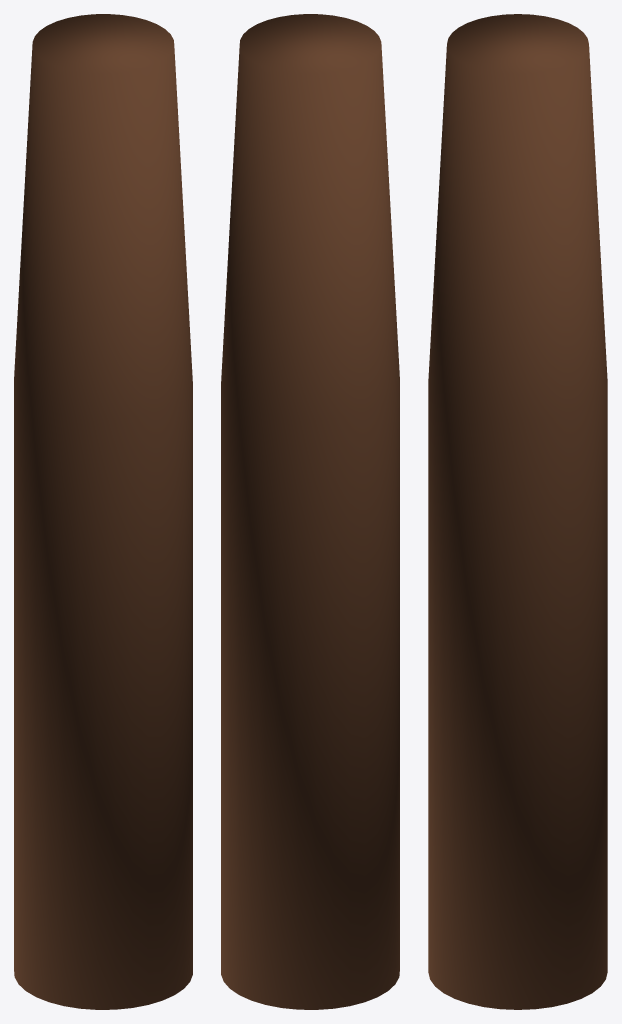
The model's file is pillar_wood.glb.
3 renders of one model, left to right at view 1: azimuth 30°, elevation 25°; view 2: azimuth 150°, elevation 25°; view 3: azimuth 270°, elevation 25°, orthographic.
Parts seen in each view (by area): view 1: pillar_wood; view 2: pillar_wood; view 3: pillar_wood.
Boxes of the visible parts, left/top/right/bottom form: pillar_wood: left=14, top=14, right=192, bottom=1009; pillar_wood: left=221, top=14, right=399, bottom=1009; pillar_wood: left=428, top=14, right=607, bottom=1009.
Bounding box in the file's own units: 0.8467 × 4.83 × 0.8467.
